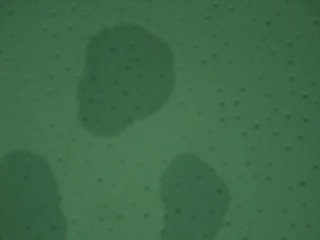Water_detected: (79, 36, 167, 126), (0, 158, 60, 240), (159, 165, 211, 234)
